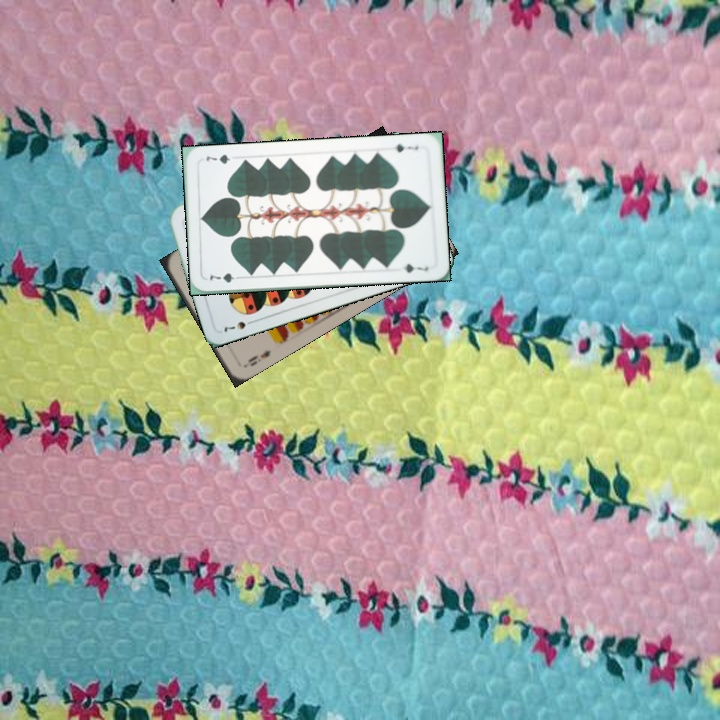E9: (240, 346, 273, 370)
G7: (206, 269, 245, 285), (391, 140, 421, 155)
S7: (220, 316, 258, 334)
